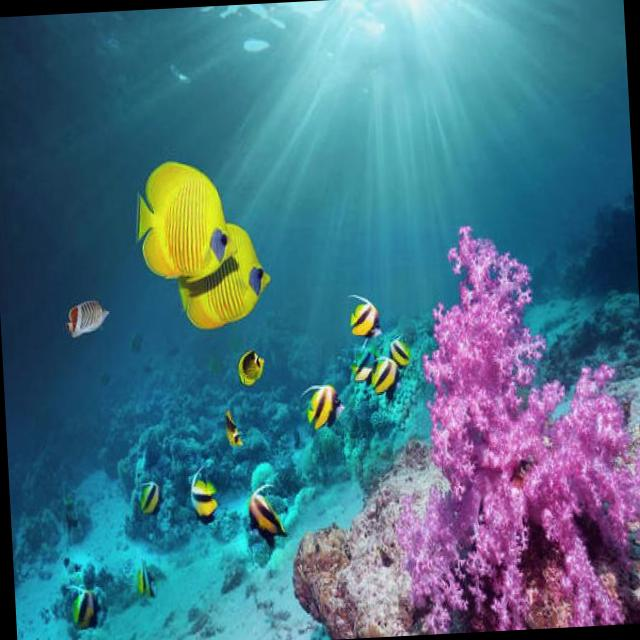ButterflyFish: (119, 150, 227, 284), (160, 212, 284, 328), (240, 463, 297, 552), (300, 370, 354, 460), (56, 280, 130, 332), (57, 572, 108, 640), (331, 290, 392, 340), (128, 554, 176, 616), (181, 452, 219, 526), (225, 344, 278, 396), (378, 324, 428, 371), (118, 476, 168, 520), (368, 362, 410, 408), (348, 347, 383, 398)
